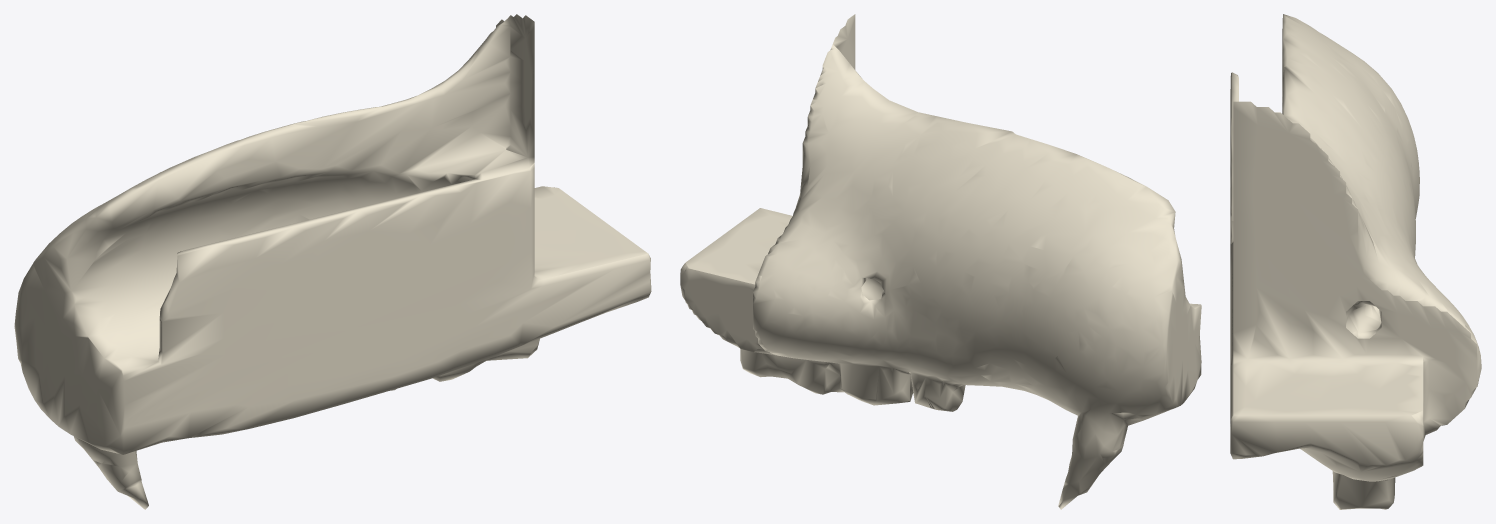
Rendered from maxilla_r.glb.
3 renders of one model, left to right at view 1: azimuth 30°, elevation 25°; view 2: azimuth 150°, elevation 25°; view 3: azimuth 270°, elevation 25°, orthographic. The views are drawn at different scales.
Visible parts, largest first — view 1: geometry_0; view 2: geometry_0; view 3: geometry_0.
Boxes of the visible parts, box(x1,y1,x2,y2) form: geometry_0: box(14, 14, 651, 509); geometry_0: box(680, 14, 1201, 509); geometry_0: box(1230, 14, 1481, 509).
Bounding box in the file's own units: 0.435 × 0.3425 × 0.1693.
